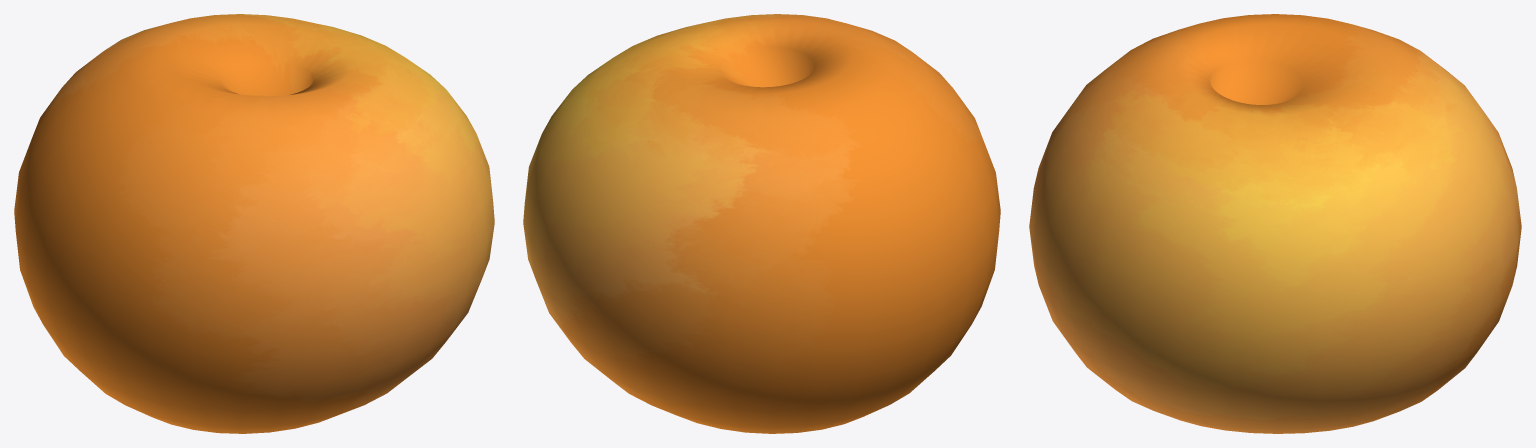
File: ornge.glb
3 views of the same model, side by side, from view 1: azimuth 30°, elevation 25°; view 2: azimuth 150°, elevation 25°; view 3: azimuth 270°, elevation 25° (orthographic). The views are drawn at different scales.
Parts seen in each view (by area): view 1: Sphere; view 2: Sphere; view 3: Sphere.
Part boxes in pixels (x1,y1,x2,y2): Sphere: (14,14,494,433); Sphere: (523,14,1000,433); Sphere: (1029,14,1521,433).
Bounding box in the file's own units: 2 × 1.58 × 2.
1 material, 1 textured.
